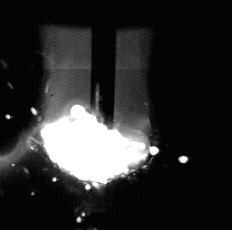arame: (91, 0, 116, 129)
poca: (43, 0, 149, 230)
